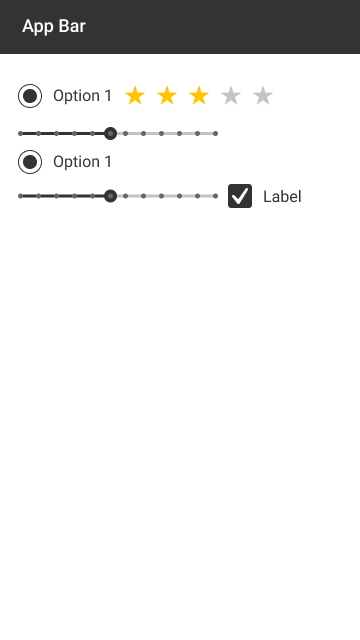checkBox: (228, 182, 303, 210)
radioButton: (16, 83, 115, 108), (17, 150, 114, 175)
ratingBar: (124, 83, 273, 108)
slider: (15, 186, 219, 204), (15, 127, 220, 142)
toolbar: (1, 1, 359, 55)
